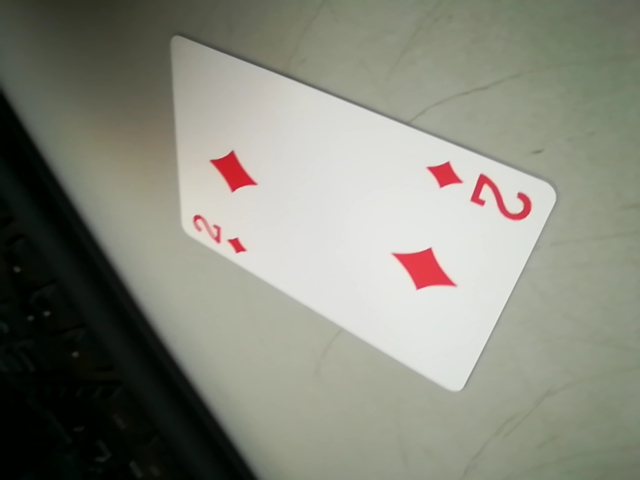fk 2: (418, 160, 540, 227), (178, 208, 251, 261)
